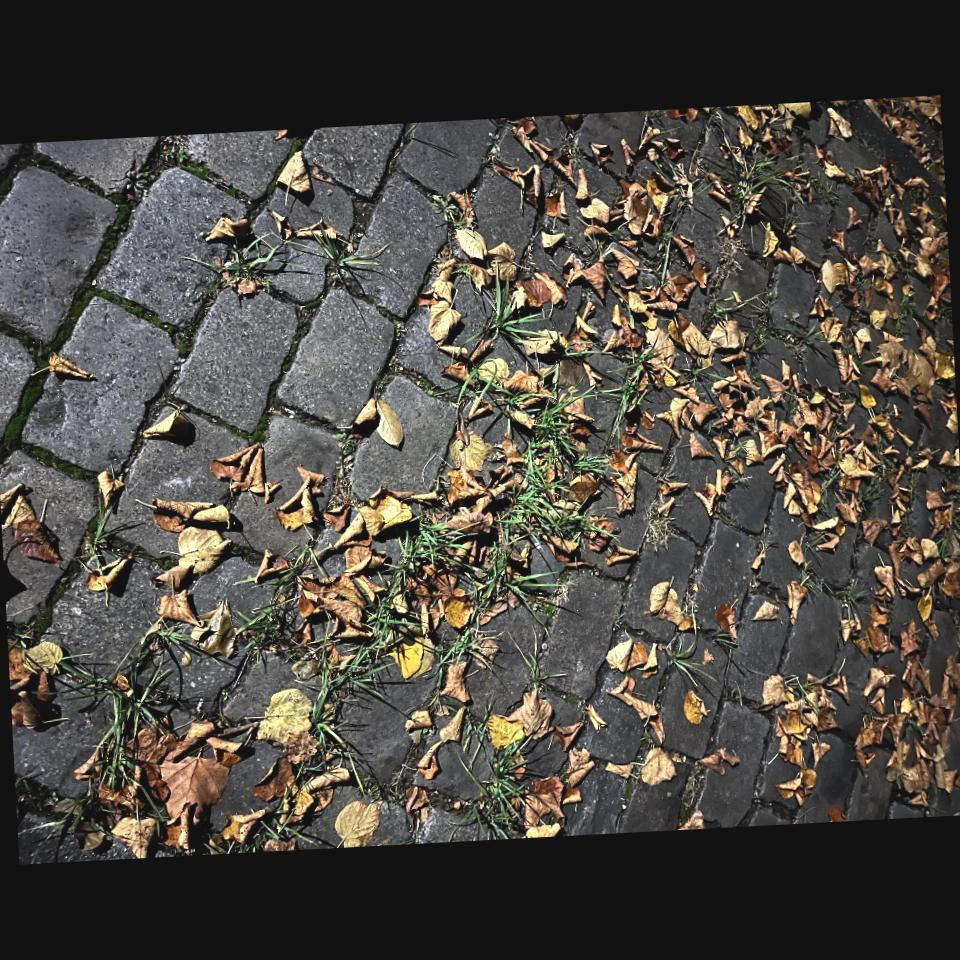weed: (310, 518, 467, 727), (483, 373, 608, 565), (60, 634, 185, 792), (730, 154, 799, 206), (482, 280, 526, 340), (215, 242, 274, 283), (320, 246, 375, 275)
